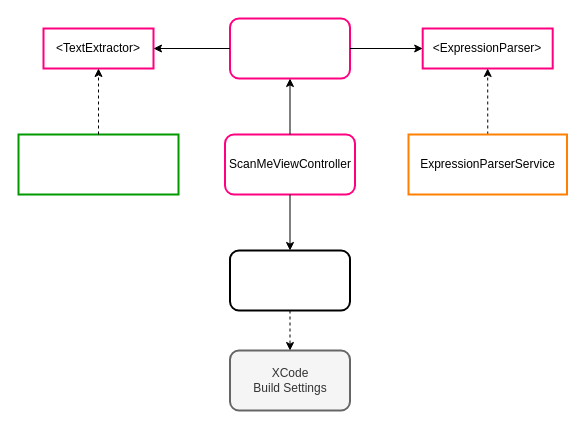
Some shapes in this 585 by 428 pixel diagram are drawn without their labels. Here are the shapes that lost their labels. From the top down, the centre of each, then its label:
At point (289, 48): "ScanMeViewModel".
At point (98, 164): "GoogleMLService".
At point (289, 280): "AppSettings".
